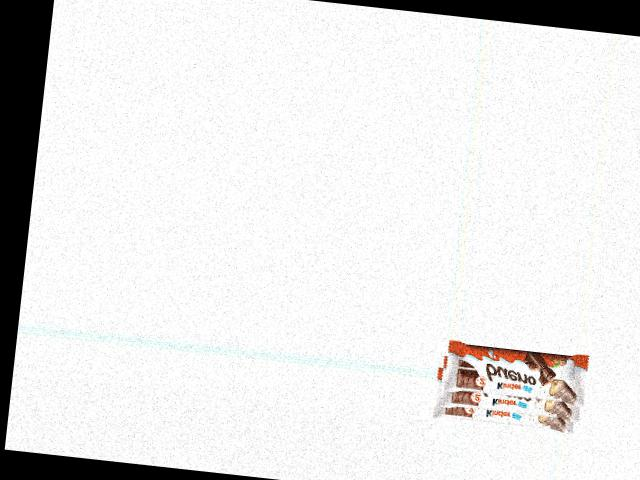chocolate: (433, 337, 586, 434)
